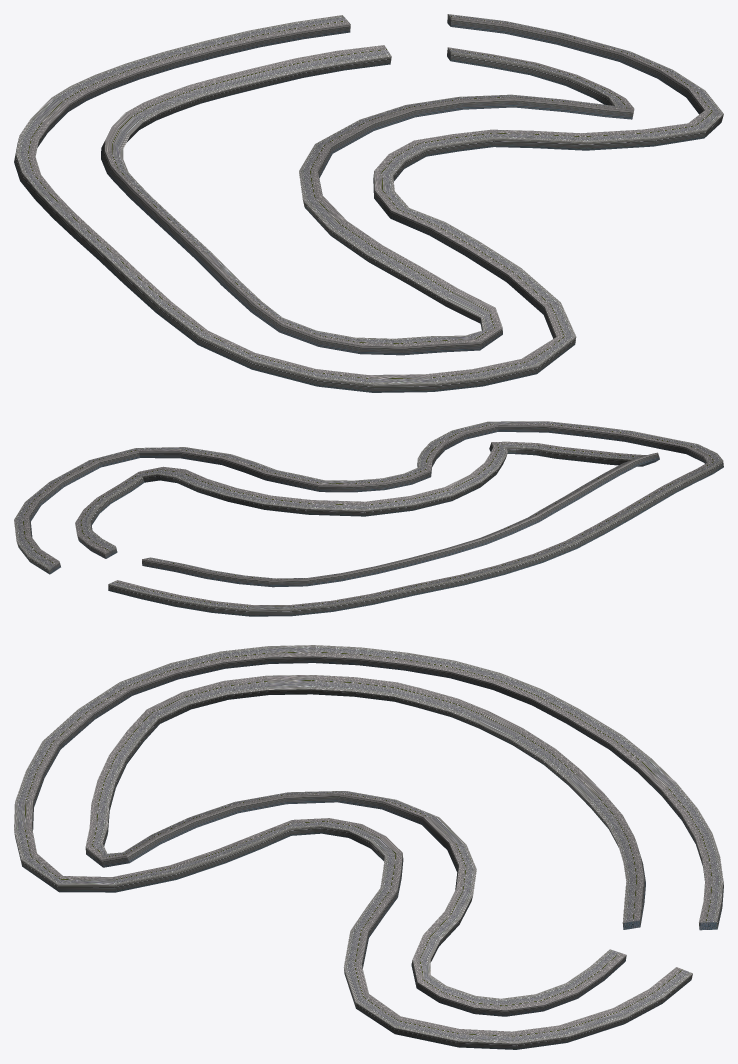
Rendered from road_1.fbx.
3 renders of one model, top to bottom at view 1: azimuth 30°, elevation 25°; view 2: azimuth 150°, elevation 25°; view 3: azimuth 270°, elevation 25°, orthographic. The views are drawn at different scales.
Parts seen in each view (by area): view 1: polySurface4; view 2: polySurface4; view 3: polySurface4.
Boxes of the visible parts, left/top/right/bottom form: polySurface4: left=14, top=14, right=723, bottom=392; polySurface4: left=14, top=421, right=723, bottom=616; polySurface4: left=14, top=645, right=723, bottom=1049.
Size of what is drawn, in the model's own units: 49.93 by 7.18 by 47.66.
1 material, 1 textured.
